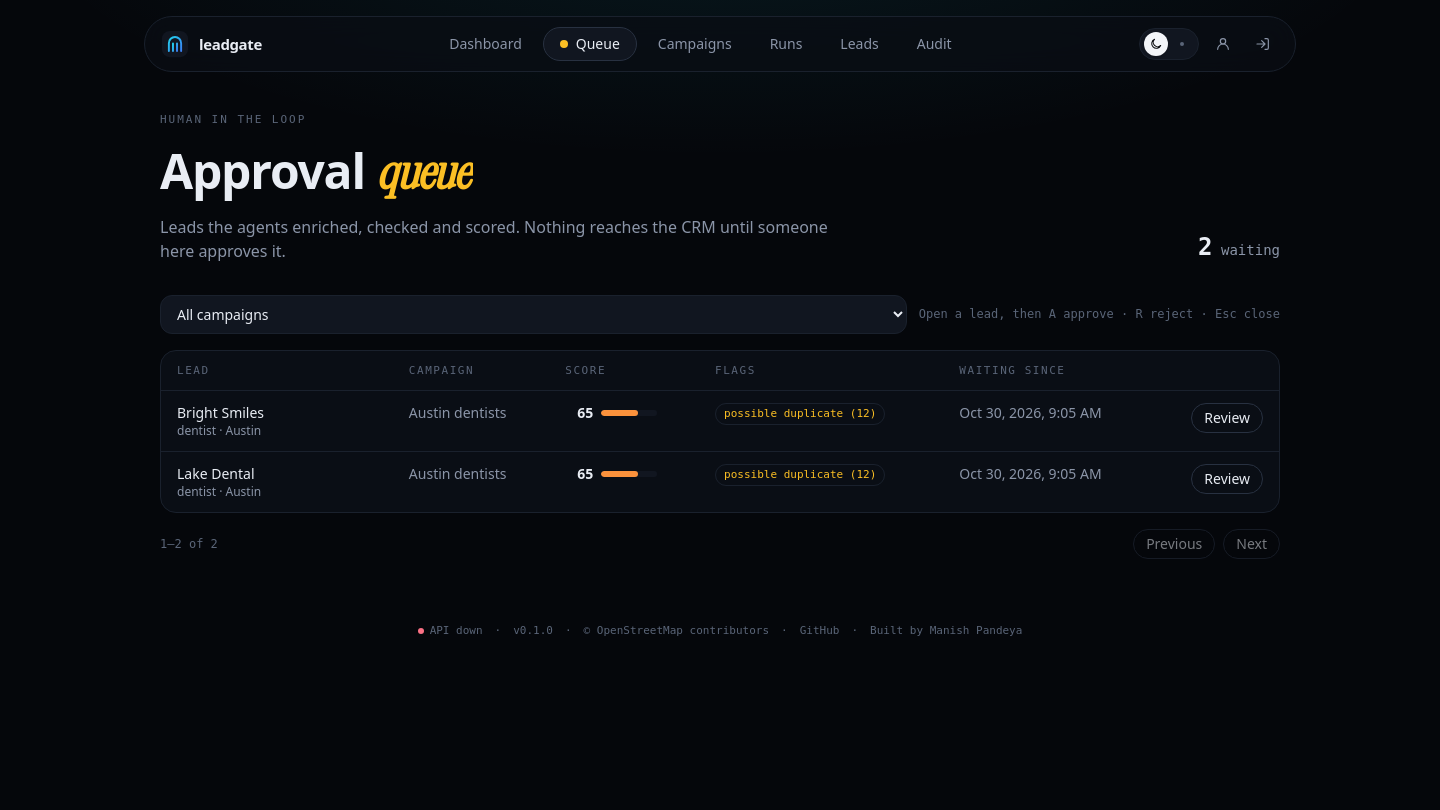
Test: QueuePage › shows the lead card with flags and the score breakdown
This screenshot has width=1440, height=810.
Click the text "Bright Smiles".
click(221, 413)  # box x1=177 y1=403 x2=264 y2=422
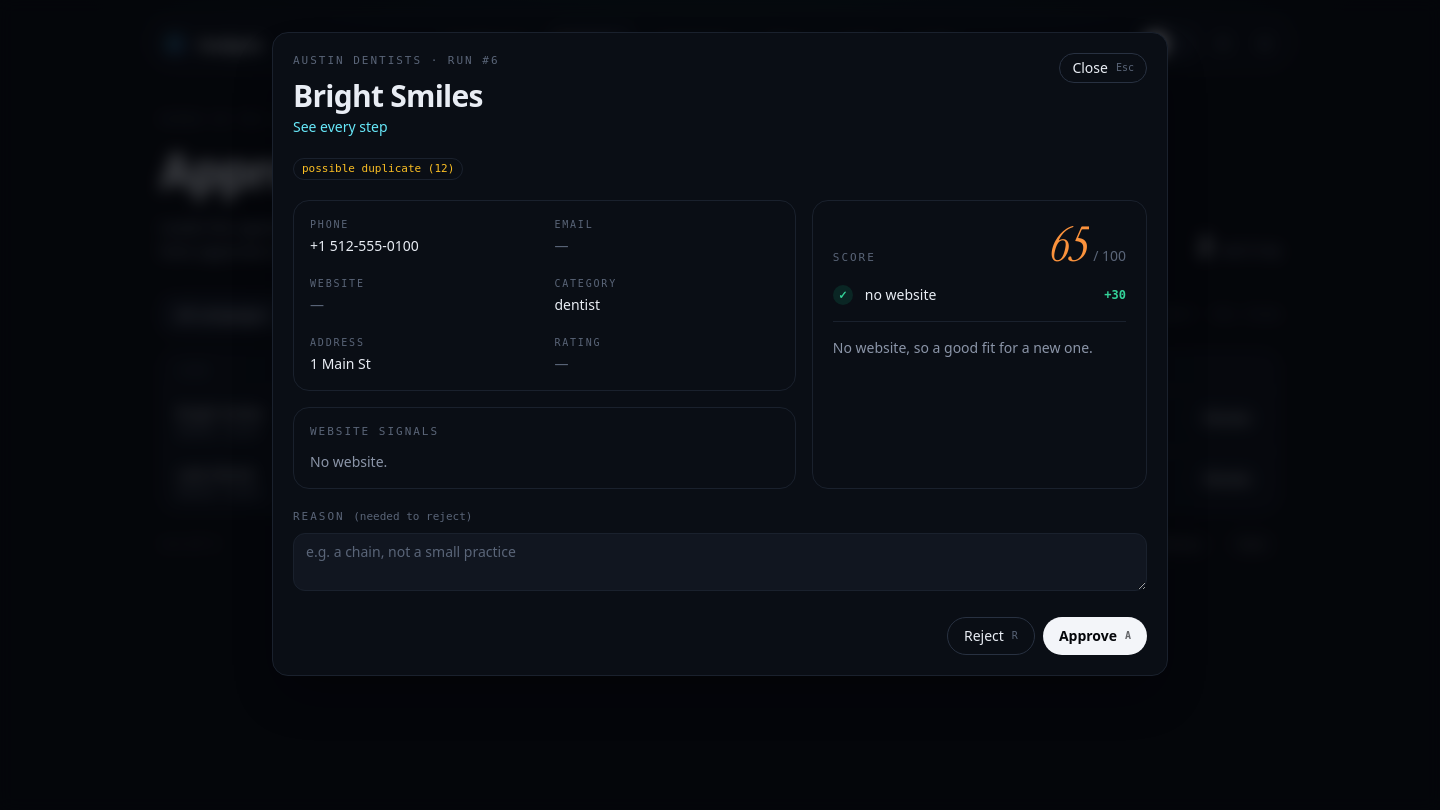
Result: the text "possible duplicate (12)" is shown at x1=293 y1=158 x2=463 y2=180
Result: the text "No website, so a good fit for a new one." is shown at x1=833 y1=321 x2=1126 y2=358
Result: the text "No website." is shown at x1=310 y1=452 x2=387 y2=471
